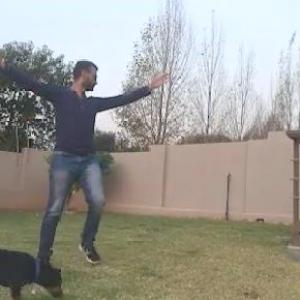takeoff: (0, 51, 177, 265)
